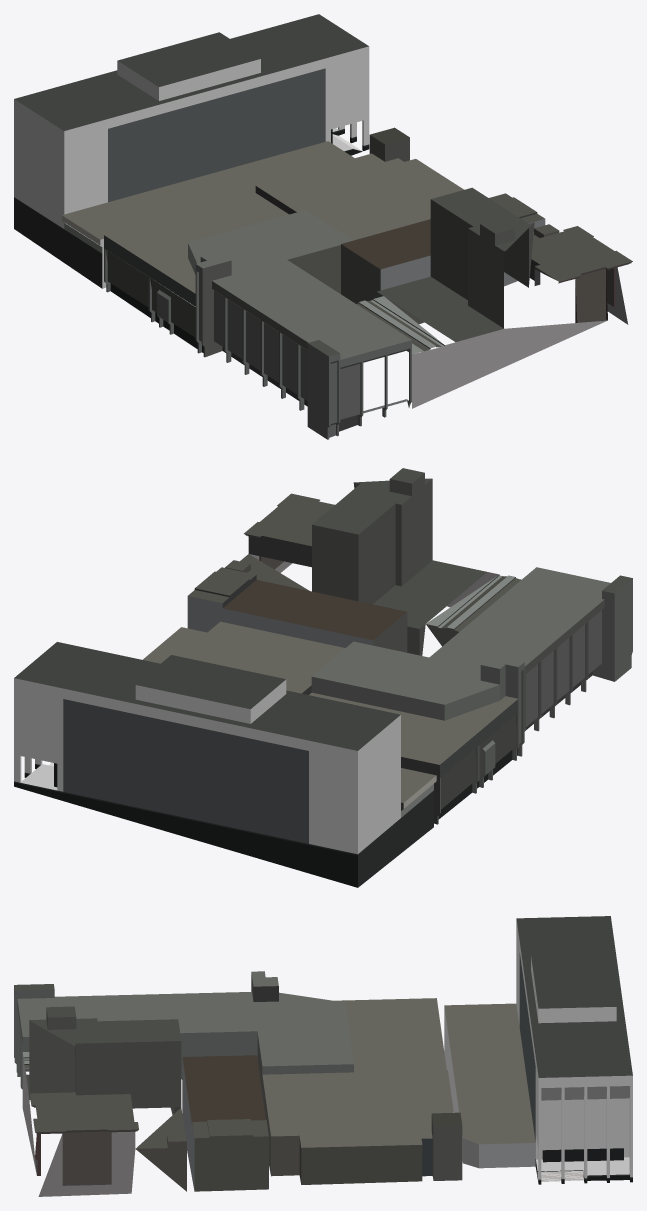
Rendered from 600-walnut-street.glb.
3 renders of one model, top to bottom at view 1: azimuth 30°, elevation 25°; view 2: azimuth 150°, elevation 25°; view 3: azimuth 270°, elevation 25°, orthographic. The views are drawn at different scales.
Visible parts, largest first — view 1: LOD0; view 2: LOD0; view 3: LOD0.
Part boxes in pixels (x1=…): LOD0: x1=14, y1=14, x2=632, y2=439; LOD0: x1=14, y1=468, x2=632, y2=887; LOD0: x1=14, y1=916, x2=632, y2=1196.
Size of what is drawn, in the model's own units: 88.23 by 37.43 by 134.
2 materials, 2 textured.
